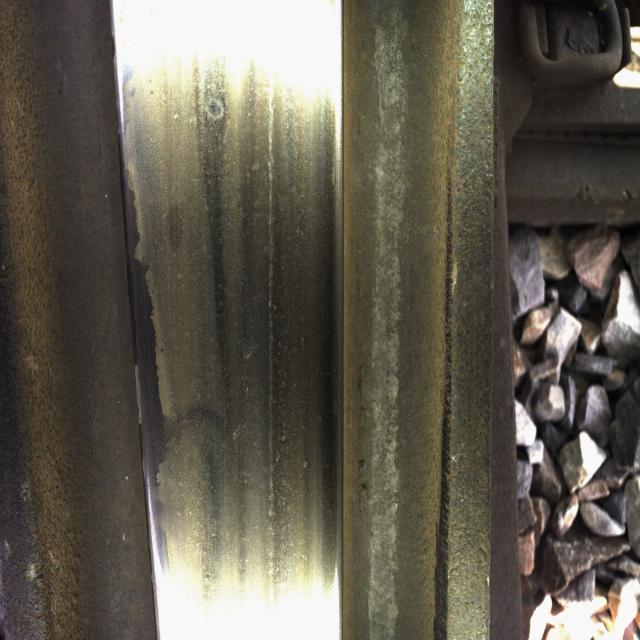crack: (170, 39, 310, 594)
